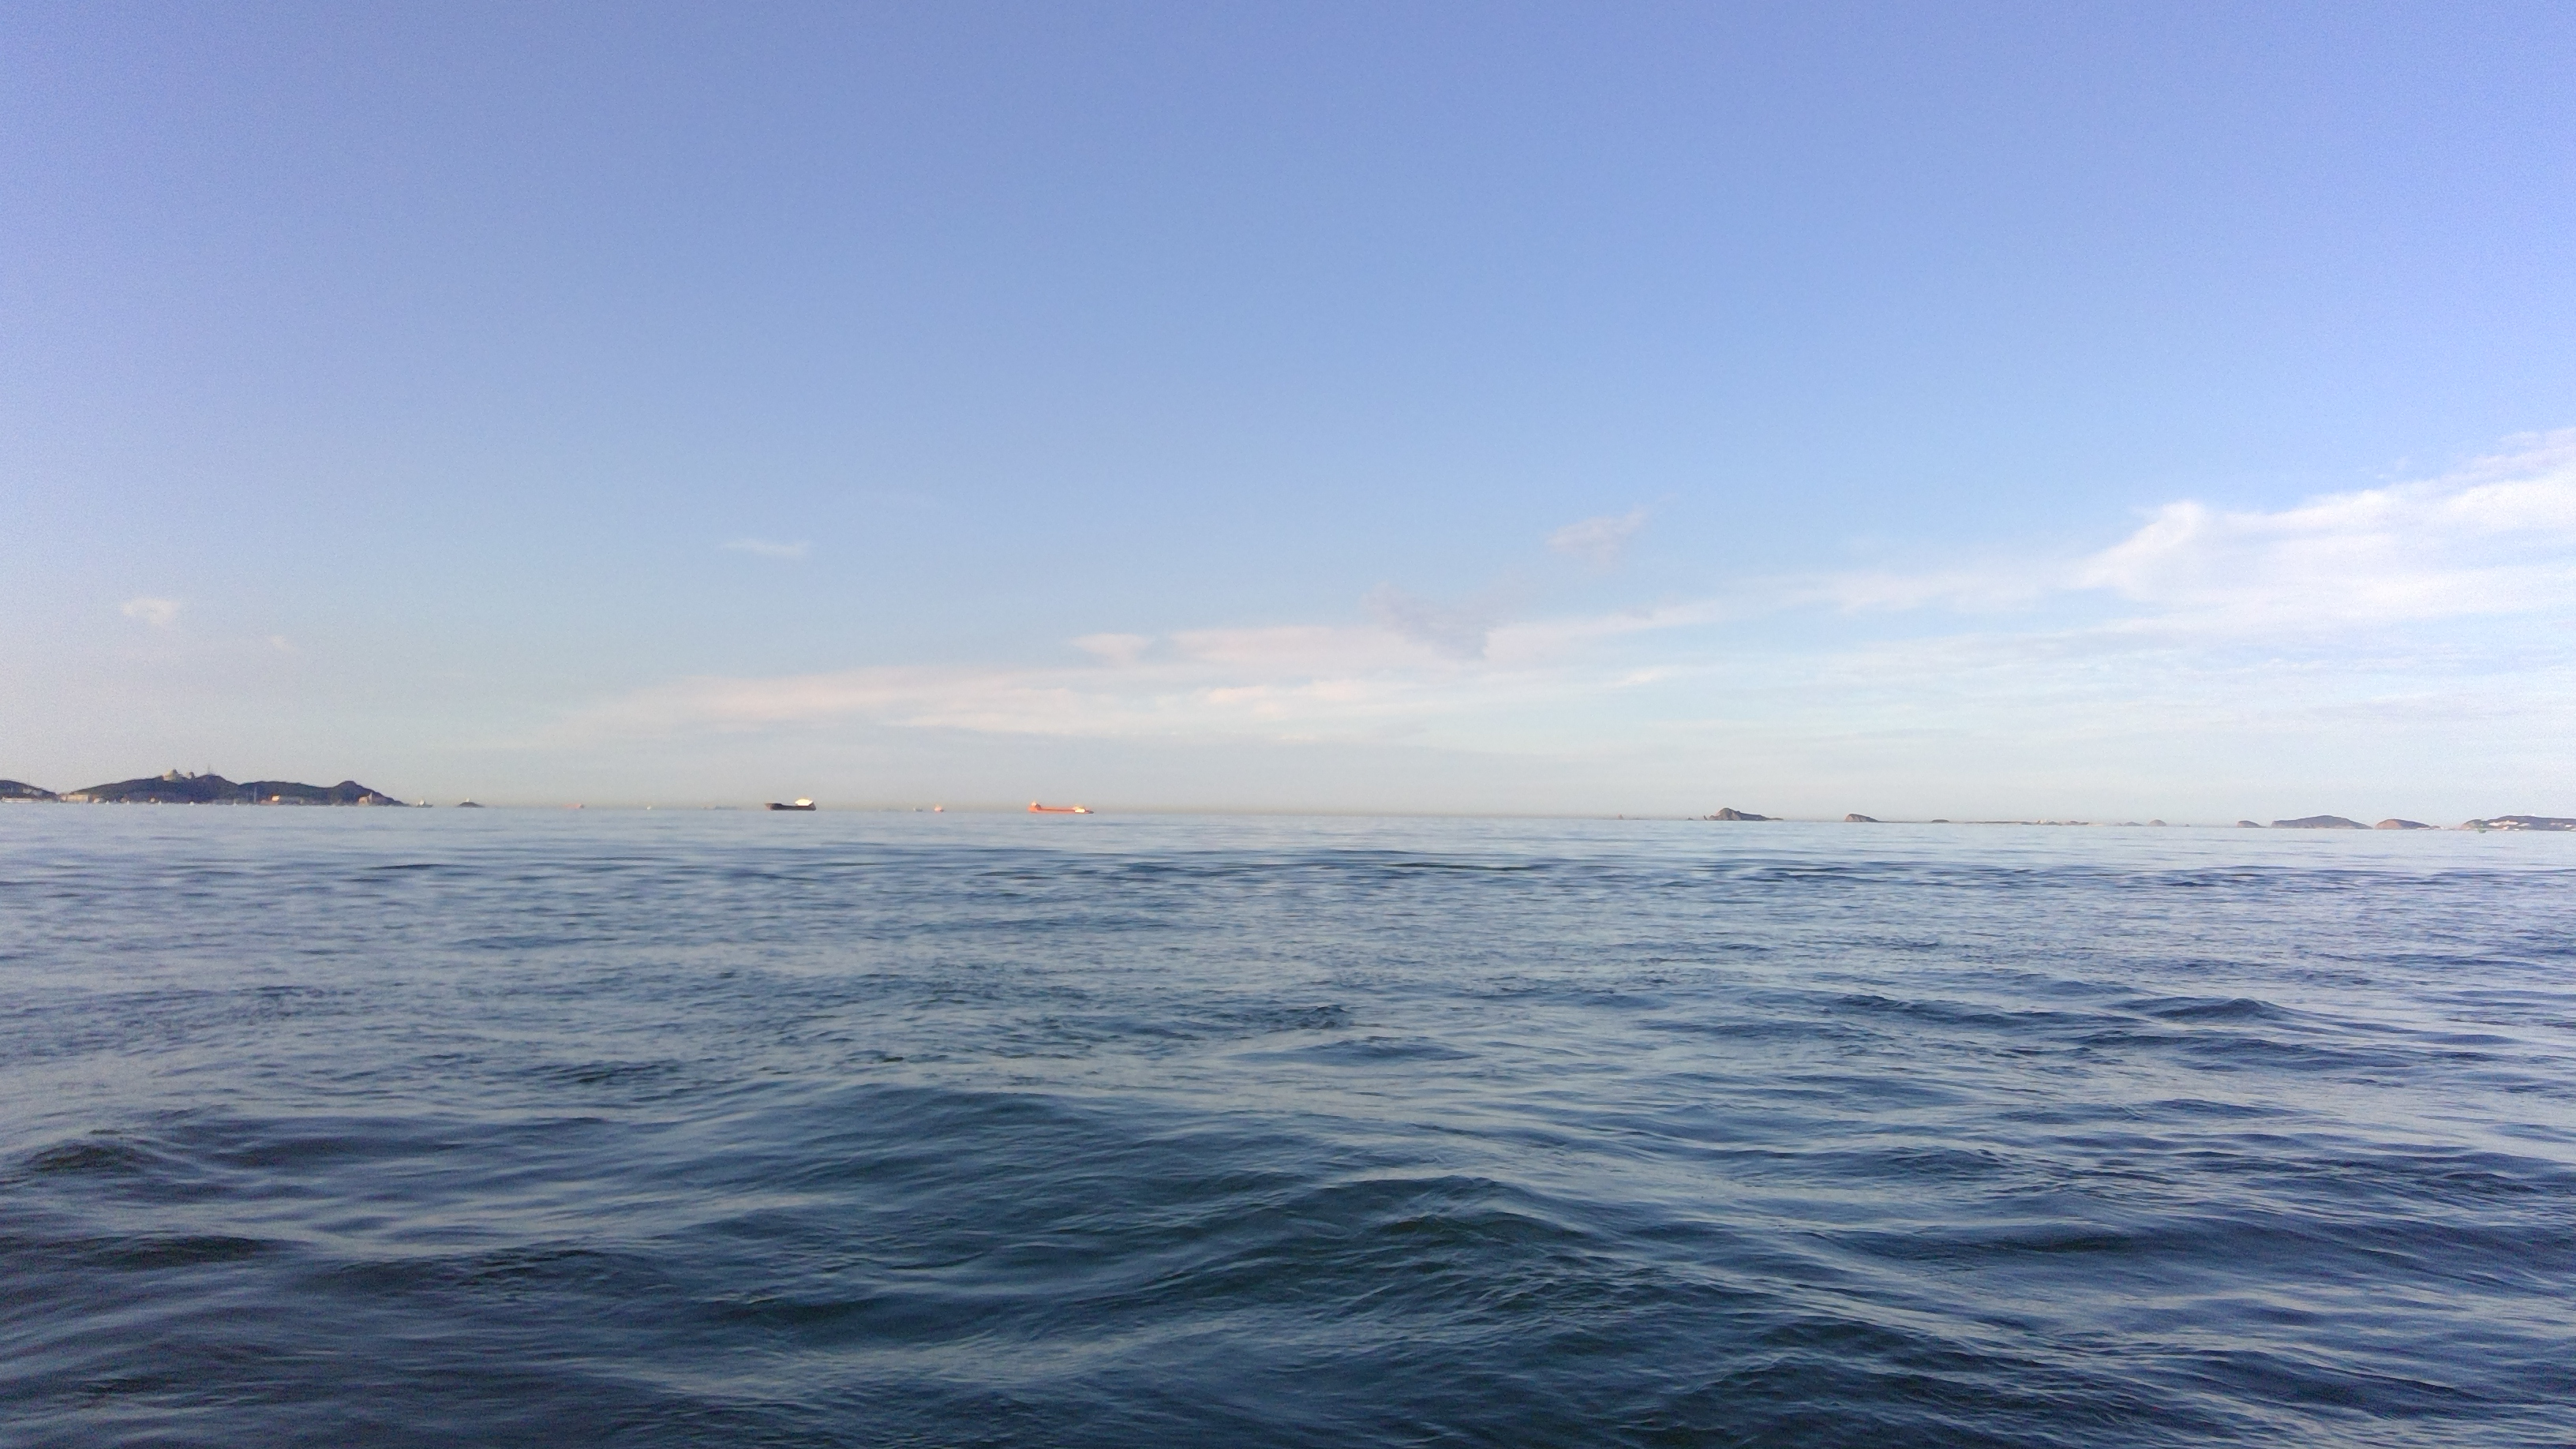boat: (759, 798, 830, 821)
platform: (1005, 786, 1104, 821)
rock: (0, 754, 418, 817), (2457, 786, 2576, 842), (2254, 793, 2431, 828), (1704, 794, 1778, 826)
